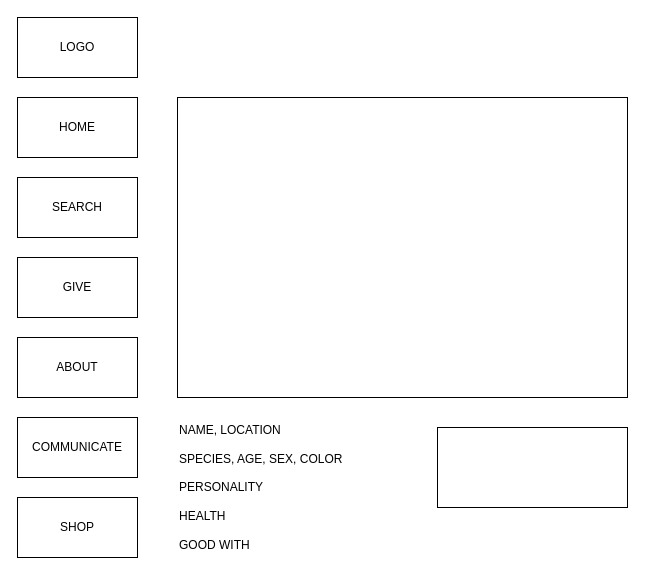
The diagram is 645 pixels wide and 575 high, and some of its shapes have lost their labels. The shapes that lost their labels are listed below. From the top down, each one's centre as x and y in pixels, then its label:
(x=402, y=247): PHOTO
(x=532, y=467): REQUEST TO ADOPT
